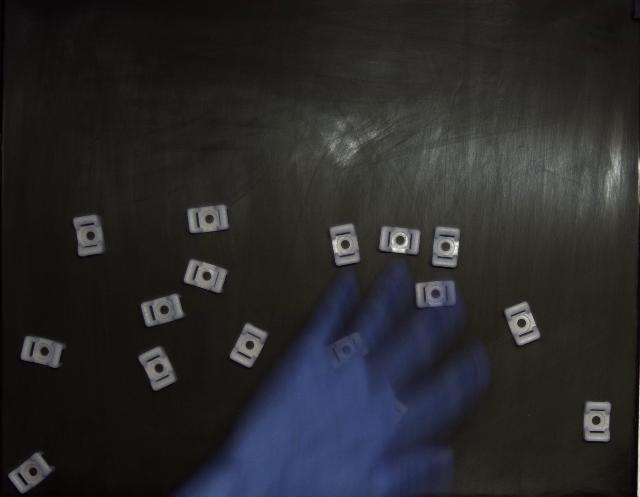first_side: (9, 452, 55, 494), (139, 346, 178, 391), (230, 324, 269, 368), (504, 302, 540, 346), (20, 336, 66, 369), (141, 294, 185, 328), (184, 260, 228, 294), (72, 215, 105, 258), (330, 224, 360, 266), (188, 205, 230, 234), (379, 226, 421, 255), (431, 226, 460, 268), (415, 281, 456, 309), (584, 401, 611, 442)
